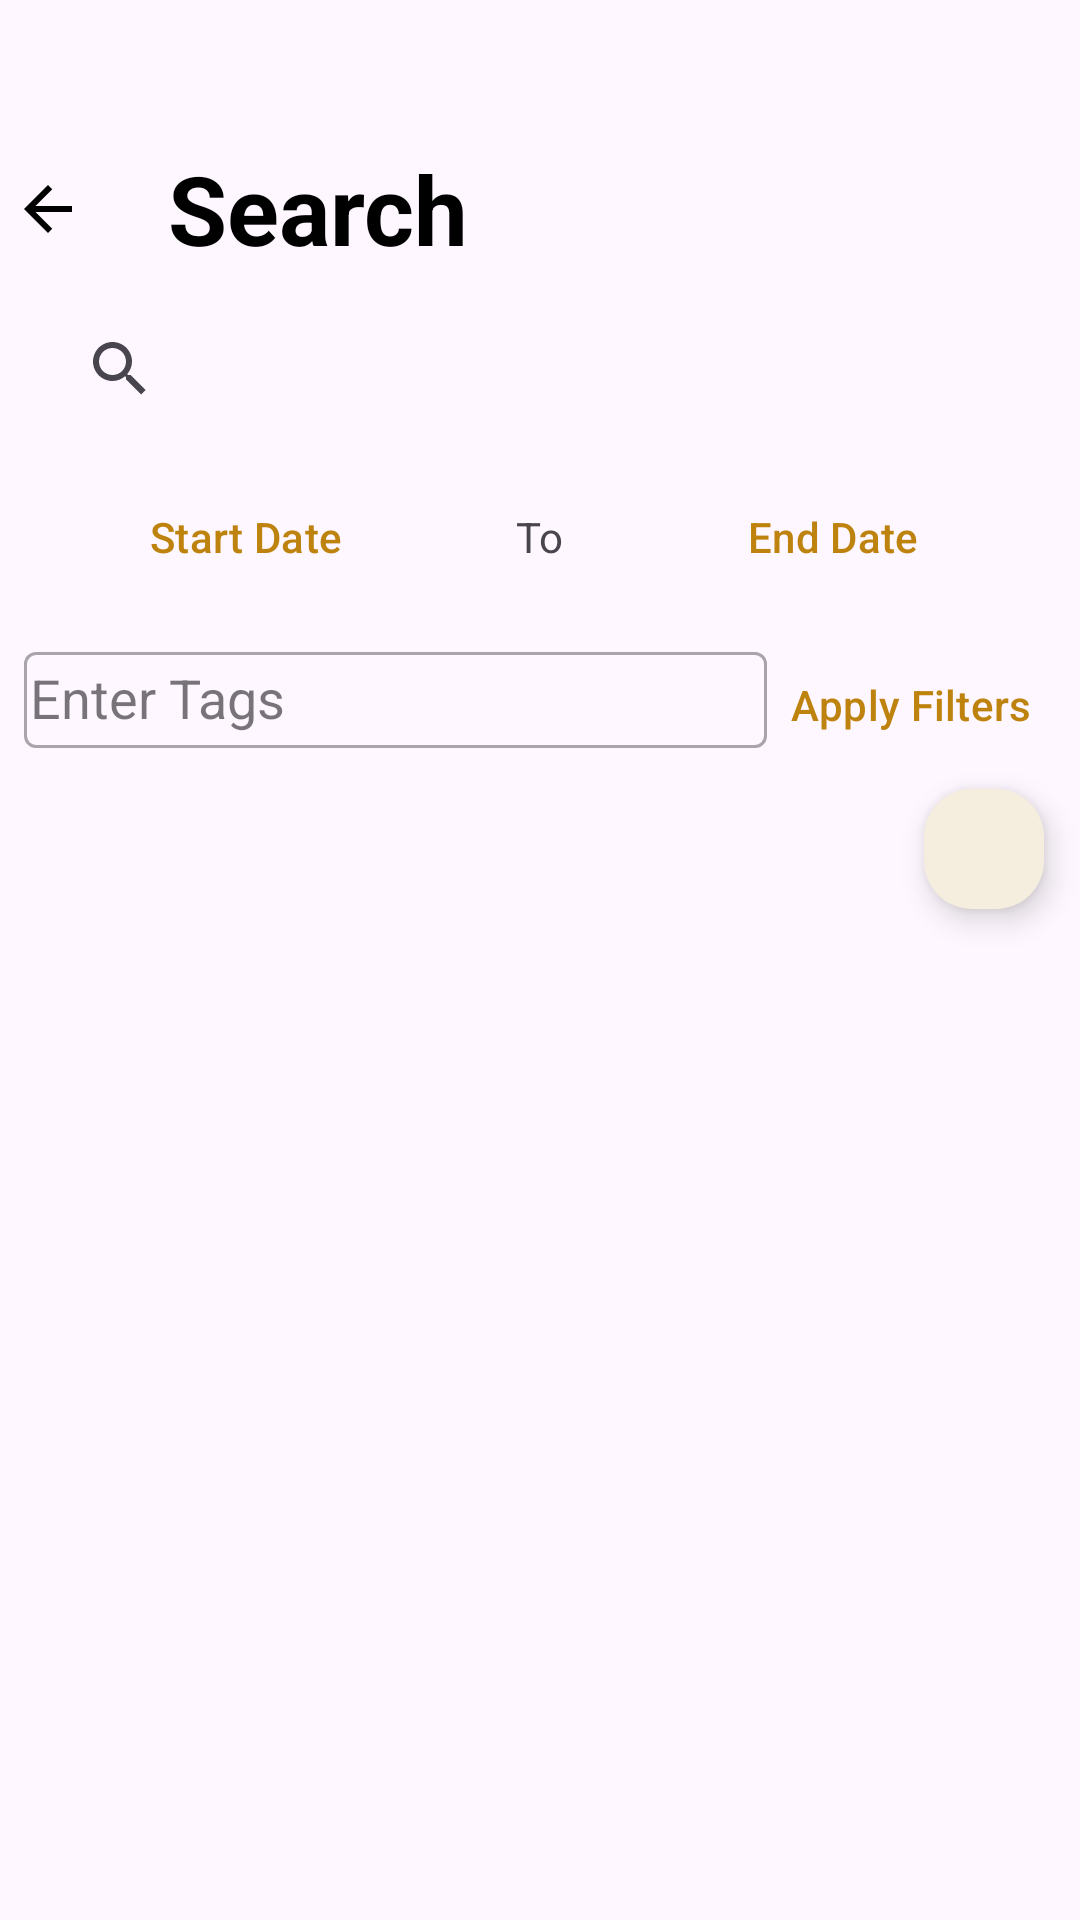

Where to tap for icons on this 1080 × 1920 app screen, as point (x, y):
Back Button: point (48, 209)
